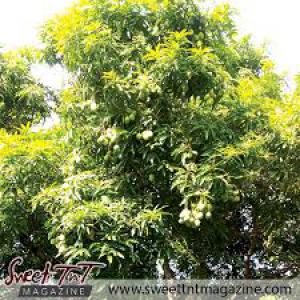Tree: (41, 4, 292, 277)
